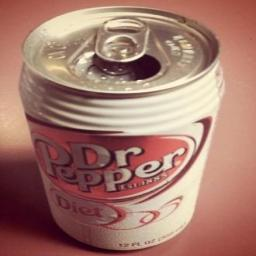Aluminum: (17, 6, 232, 252)
